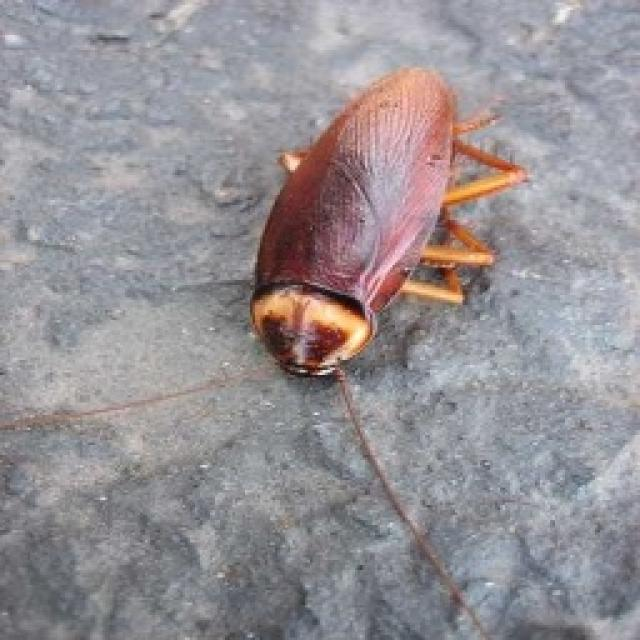cockroach: (214, 25, 522, 454)
